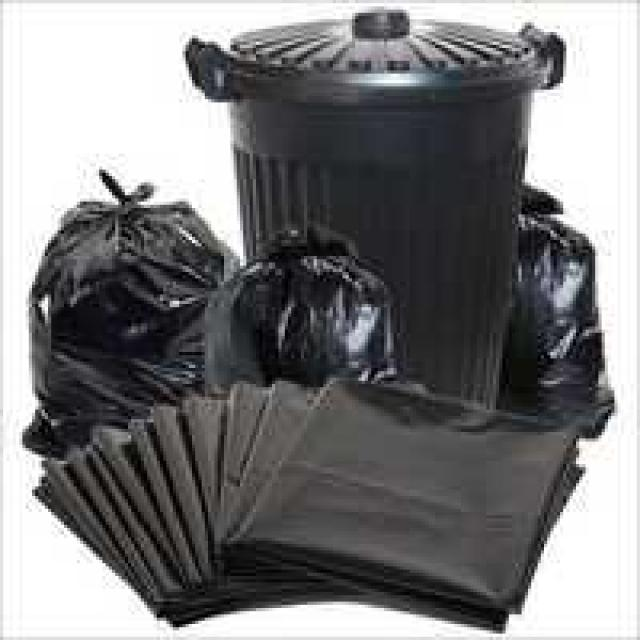plastic_bag: (27, 187, 238, 436), (228, 235, 398, 382), (497, 203, 603, 424)
